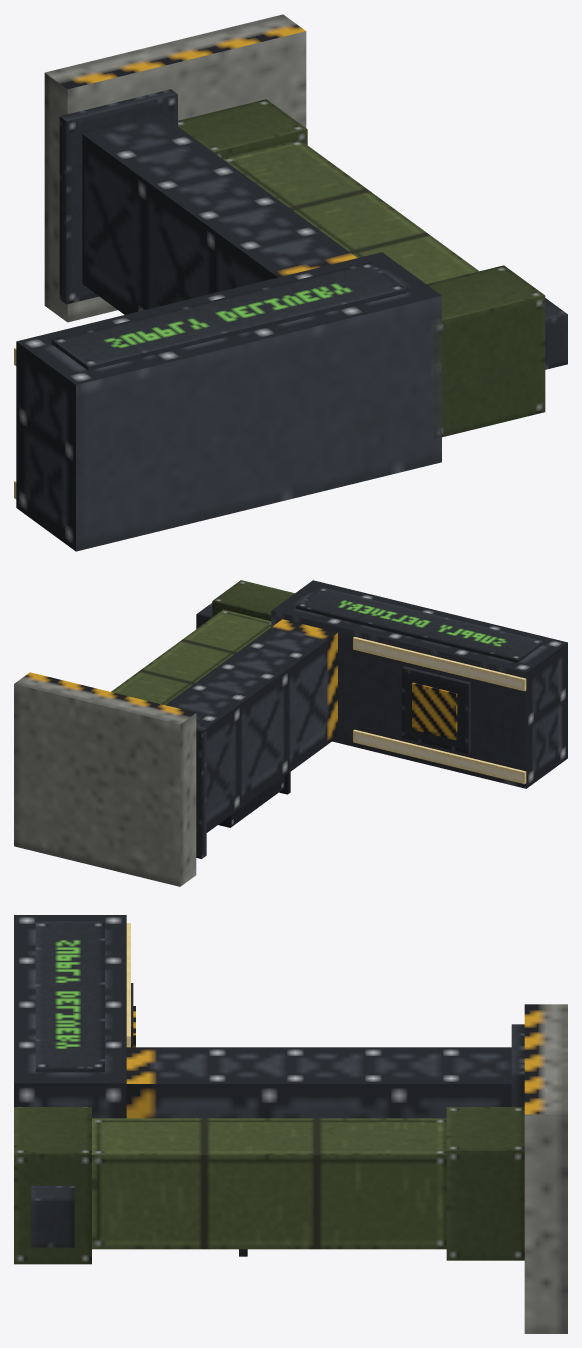
File: supply_delivery_gate_left.obj
The picture shows the model from 3 angles, top to bottom: view 1: azimuth 30°, elevation 25°; view 2: azimuth 150°, elevation 25°; view 3: azimuth 270°, elevation 25°; orthographic projection. The views are drawn at different scales.
Visible parts, largest first — view 1: supply_delivery_gate_left_Beam, supply_delivery_gate_left_Column_1, supply_delivery_gate_left_Footing_1, supply_delivery_gate_left_Elevator_head, supply_delivery_gate_left_Title_1, supply_delivery_gate_left_Elevator_shaft, supply_delivery_gate_left_Column_plate_1, supply_delivery_gate_left_Elevator_boot, supply_delivery_gate_left_Elevator_motor; view 2: supply_delivery_gate_left_Footing_1, supply_delivery_gate_left_Beam, supply_delivery_gate_left_Column_1, supply_delivery_gate_left_Title_1, supply_delivery_gate_left_Elevator_shaft, supply_delivery_gate_left_Chute_collar_1, supply_delivery_gate_left_Beam_light_0, supply_delivery_gate_left_Beam_light_1, supply_delivery_gate_left_Chute_gate_1, supply_delivery_gate_left_Elevator_head, supply_delivery_gate_left_Column_plate_1, supply_delivery_gate_left_Signal_head_1; view 3: supply_delivery_gate_left_Elevator_shaft, supply_delivery_gate_left_Column_1, supply_delivery_gate_left_Footing_1, supply_delivery_gate_left_Elevator_boot, supply_delivery_gate_left_Beam, supply_delivery_gate_left_Title_1, supply_delivery_gate_left_Elevator_head, supply_delivery_gate_left_Elevator_motor, supply_delivery_gate_left_Column_plate_1, supply_delivery_gate_left_Beam_light_1.
Part boxes in pixels (x1=…): supply_delivery_gate_left_Beam: x1=16, y1=252, x2=441, y2=551; supply_delivery_gate_left_Column_1: x1=82, y1=115, x2=357, y2=314; supply_delivery_gate_left_Footing_1: x1=44, y1=14, x2=306, y2=322; supply_delivery_gate_left_Elevator_head: x1=426, y1=265, x2=545, y2=438; supply_delivery_gate_left_Title_1: x1=51, y1=262, x2=406, y2=370; supply_delivery_gate_left_Elevator_shaft: x1=222, y1=139, x2=478, y2=284; supply_delivery_gate_left_Column_plate_1: x1=59, y1=89, x2=177, y2=304; supply_delivery_gate_left_Elevator_boot: x1=178, y1=99, x2=307, y2=158; supply_delivery_gate_left_Elevator_motor: x1=545, y1=298, x2=567, y2=369; supply_delivery_gate_left_Footing_1: x1=14, y1=672, x2=196, y2=886; supply_delivery_gate_left_Beam: x1=271, y1=580, x2=567, y2=788; supply_delivery_gate_left_Column_1: x1=165, y1=619, x2=337, y2=832; supply_delivery_gate_left_Title_1: x1=296, y1=587, x2=543, y2=662; supply_delivery_gate_left_Elevator_shaft: x1=111, y1=609, x2=271, y2=704; supply_delivery_gate_left_Chute_collar_1: x1=402, y1=666, x2=470, y2=753; supply_delivery_gate_left_Beam_light_0: x1=353, y1=729, x2=526, y2=784; supply_delivery_gate_left_Beam_light_1: x1=353, y1=637, x2=526, y2=691; supply_delivery_gate_left_Chute_gate_1: x1=412, y1=682, x2=457, y2=740; supply_delivery_gate_left_Elevator_head: x1=212, y1=580, x2=294, y2=621; supply_delivery_gate_left_Column_plate_1: x1=196, y1=725, x2=206, y2=858; supply_delivery_gate_left_Signal_head_1: x1=218, y1=776, x2=284, y2=827; supply_delivery_gate_left_Elevator_shaft: x1=92, y1=1118, x2=446, y2=1249; supply_delivery_gate_left_Column_1: x1=126, y1=1047, x2=511, y2=1118; supply_delivery_gate_left_Footing_1: x1=524, y1=1004, x2=567, y2=1333; supply_delivery_gate_left_Elevator_boot: x1=446, y1=1107, x2=524, y2=1260; supply_delivery_gate_left_Beam: x1=14, y1=915, x2=126, y2=1118; supply_delivery_gate_left_Title_1: x1=35, y1=922, x2=104, y2=1072; supply_delivery_gate_left_Elevator_head: x1=14, y1=1107, x2=91, y2=1264; supply_delivery_gate_left_Elevator_motor: x1=31, y1=1186, x2=74, y2=1247; supply_delivery_gate_left_Column_plate_1: x1=511, y1=1024, x2=524, y2=1106; supply_delivery_gate_left_Beam_light_1: x1=126, y1=923, x2=130, y2=1047.
Bounding box in the file's own units: 1.97 × 0.875 × 2.
